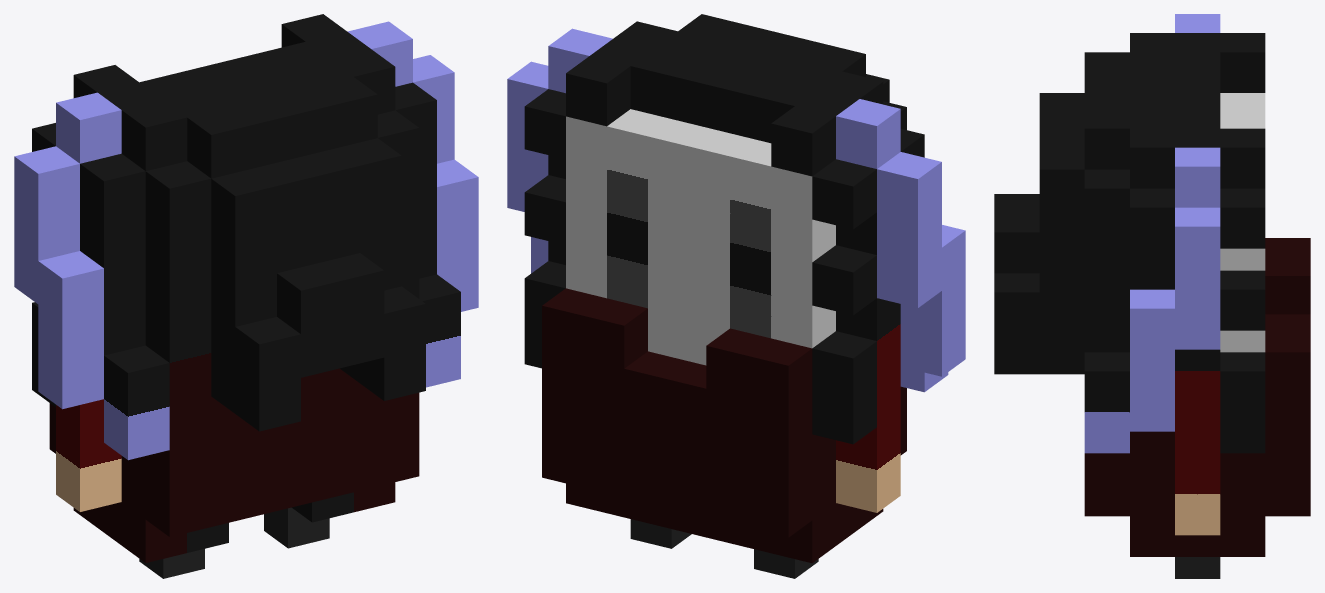
The model's file is chr_goth1.obj.
The picture shows the model from 3 angles, left to right: view 1: azimuth 30°, elevation 25°; view 2: azimuth 150°, elevation 25°; view 3: azimuth 270°, elevation 25°; orthographic projection. The views are drawn at different scales.
Parts seen in each view (by area): view 1: chr_goth1_Plane-tex; view 2: chr_goth1_Plane-tex; view 3: chr_goth1_Plane-tex.
Boxes of the visible parts, bbox=[...] form: chr_goth1_Plane-tex: bbox=[14, 14, 478, 578]; chr_goth1_Plane-tex: bbox=[507, 14, 965, 578]; chr_goth1_Plane-tex: bbox=[994, 14, 1310, 578].
Size of the model in its own units: 1 by 1.1 by 0.7.
